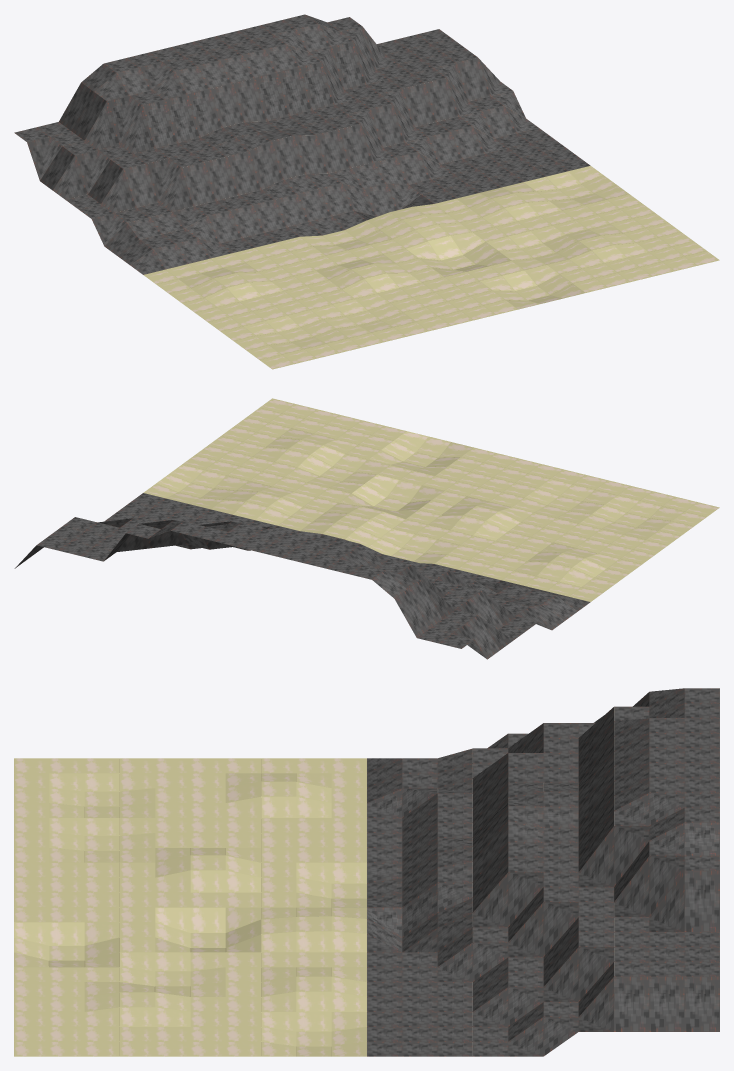
File: menu_terrain.glb
3 views of the same model, one above another, from view 1: azimuth 30°, elevation 25°; view 2: azimuth 150°, elevation 25°; view 3: azimuth 270°, elevation 25° (orthographic). The views are drawn at different scales.
Parts seen in each view (by area): view 1: MenuTerrain; view 2: MenuTerrain; view 3: MenuTerrain.
Boxes of the visible parts, left/top/right/bottom form: MenuTerrain: left=14, top=14, right=719, bottom=369; MenuTerrain: left=14, top=398, right=719, bottom=659; MenuTerrain: left=14, top=688, right=719, bottom=1056.
Size of the model in its own units: 40 by 9.07 by 40.
Materials: 1 (1 with a texture image).
